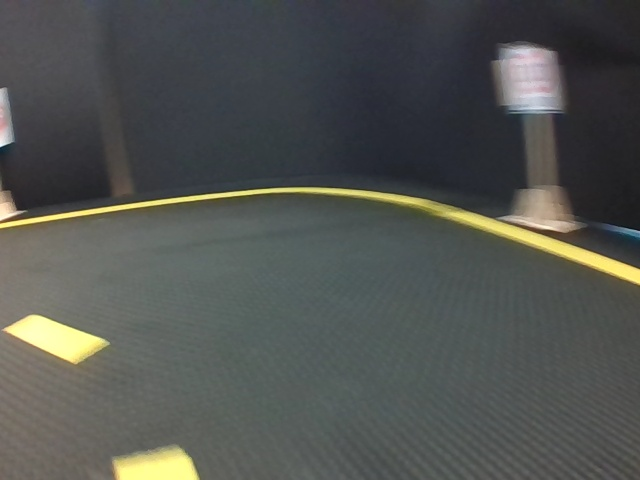30: (504, 46, 561, 109)
stop: (1, 88, 11, 143)
